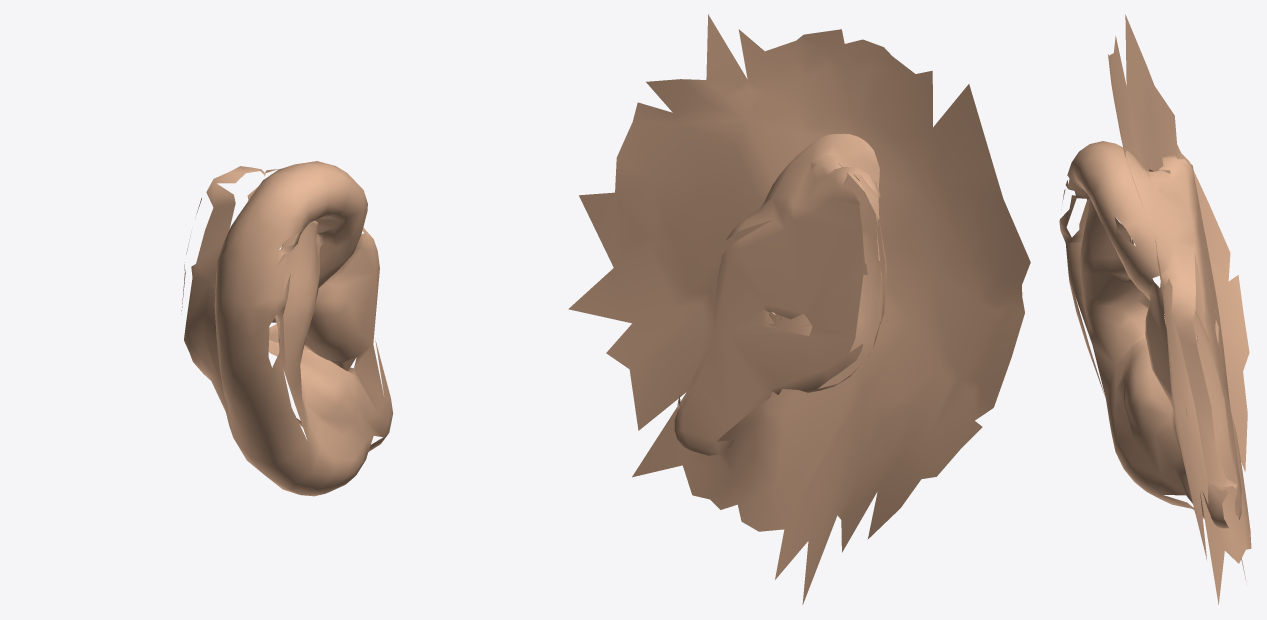
The model's file is ear-r.glb.
3 renders of one model, left to right at view 1: azimuth 30°, elevation 25°; view 2: azimuth 150°, elevation 25°; view 3: azimuth 270°, elevation 25°, orthographic. The views are drawn at different scales.
Visible parts, largest first — view 1: skin; view 2: skin; view 3: skin.
Boxes of the visible parts, <box> form: skin: <box>181,161,393,496</box>; skin: <box>568,14,1030,604</box>; skin: <box>1059,14,1251,604</box>.
Size of the model in its own units: 0.0933 by 0.1026 by 0.0334.
